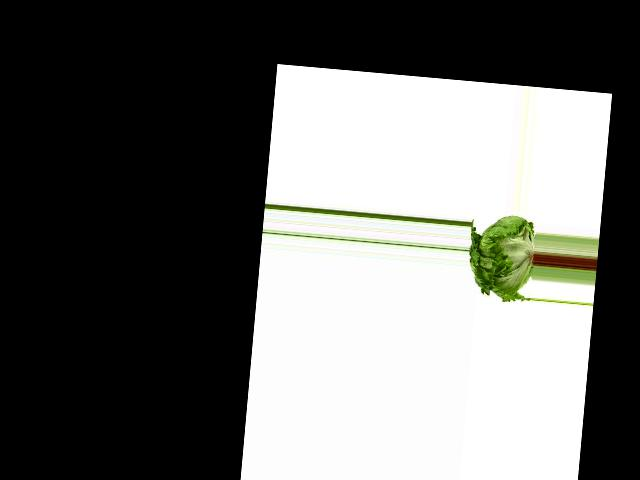lettuce: (465, 209, 538, 307)
